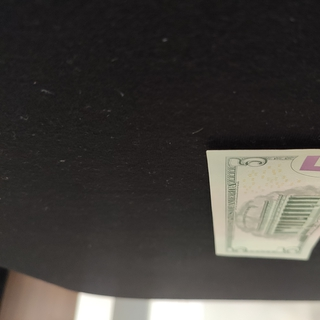5USDBack: (204, 146, 320, 262)
